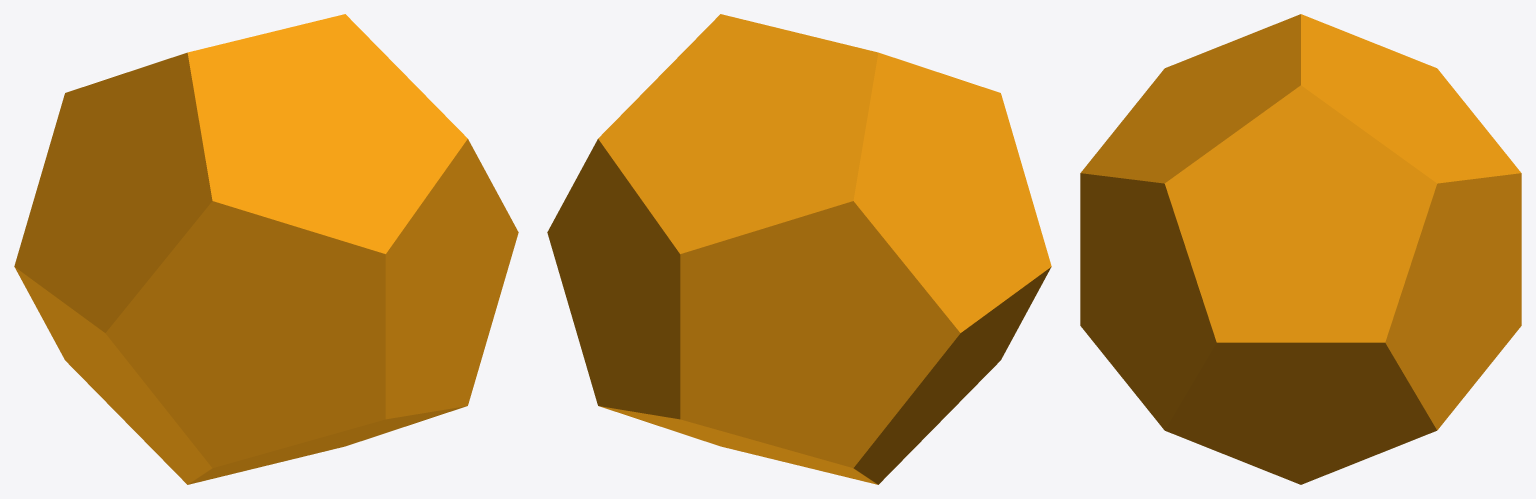
File: second-model.glb
The picture shows the model from 3 angles, left to right: view 1: azimuth 30°, elevation 25°; view 2: azimuth 150°, elevation 25°; view 3: azimuth 270°, elevation 25°; orthographic projection. The views are drawn at different scales.
Parts seen in each view (by area): view 1: GoldenCore; view 2: GoldenCore; view 3: GoldenCore.
Boxes of the visible parts, bbox=[...] form: GoldenCore: bbox=[14, 14, 518, 484]; GoldenCore: bbox=[547, 14, 1051, 484]; GoldenCore: bbox=[1080, 14, 1521, 484].
Bounding box in the file's own units: 0.7473 × 0.7473 × 0.7473.
